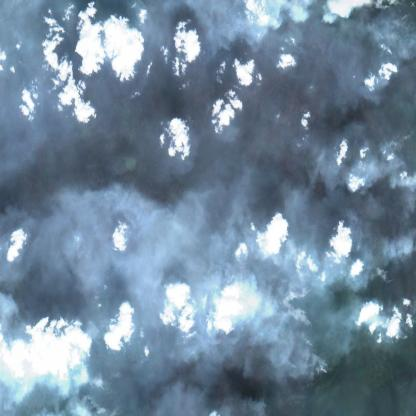fire: (0, 339, 133, 416), (278, 238, 335, 416), (352, 0, 416, 52), (380, 268, 416, 353)
